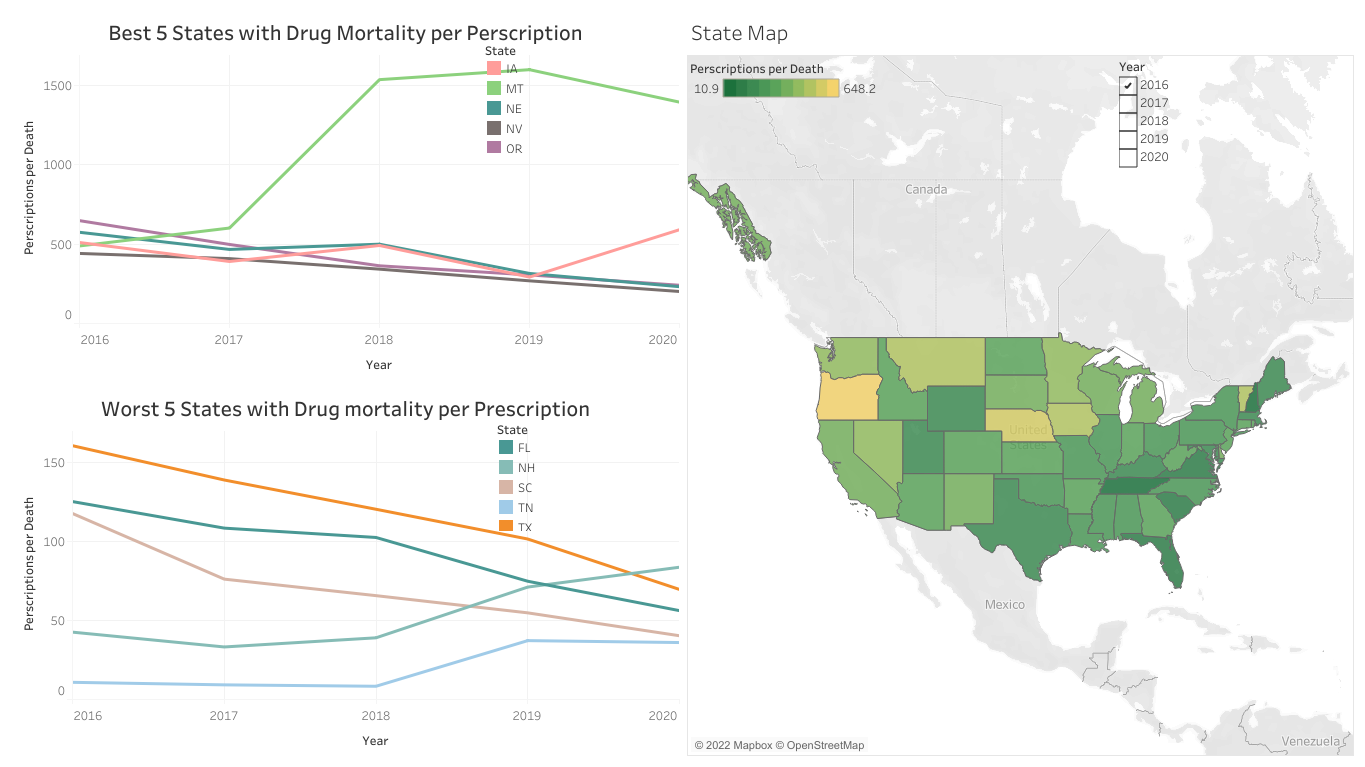

What the dashboard file says about the page in this screenshot:
{"tool":"tableau","page":{"name":"Dashboard 1","canvas":[1000,1000],"units":"permille","ordinal":0},"visuals":[{"type":"worksheet","title":"Best 5","mark":"Automatic","rows":["Perscriptions per Death"],"cols":["YEAR"],"box":[4.8,8.6,495.2,491.4]},{"type":"worksheet","title":"State Map","mark":"Multipolygon","box":[500,8.6,495.2,982.9]},{"type":"legend","title":"Best 5","param":"[federated.1hm7dt70o1d07y1be1kx20ly3bpe].[none:STATE:nk]","box":[354,51.2,140,147.5]},{"type":"legend","title":"State Map","param":"[federated.1hm7dt70o1d07y1be1kx20ly3bpe].[sum:Perscriptions per Death:qk]","box":[505,71.2,140,95]},{"type":"filter","title":"State Map","param":"[federated.1hm7dt70o1d07y1be1kx20ly3bpe].[none:YEAR:ok]","box":[819,72.5,168,182.5]},{"type":"worksheet","title":"Worst 5","mark":"Automatic","rows":["Perscriptions per Death"],"cols":["YEAR"],"box":[4.8,500,495.2,491.4]},{"type":"legend","title":"Worst 5","param":"[federated.1hm7dt70o1d07y1be1kx20ly3bpe].[none:STATE:nk]","box":[363,543.8,140,147.5]}]}

Visuals, with their boxes on the dashboard's canvas, which has no fixed pixel size, in thousandths of its width and height (x1, y1, x2, y2). These are canvas units, not pixel positions in the 1365x767 screenshot, which may show the page scaled, cropped or inside an application window:
"Best 5" worksheet: {"left": 5, "top": 9, "right": 500, "bottom": 500}
"State Map" worksheet (Multipolygon marks): {"left": 500, "top": 9, "right": 995, "bottom": 992}
"Best 5" legend: {"left": 354, "top": 51, "right": 494, "bottom": 199}
"State Map" legend: {"left": 505, "top": 71, "right": 645, "bottom": 166}
"State Map" filter: {"left": 819, "top": 72, "right": 987, "bottom": 255}
"Worst 5" worksheet: {"left": 5, "top": 500, "right": 500, "bottom": 991}
"Worst 5" legend: {"left": 363, "top": 544, "right": 503, "bottom": 691}
